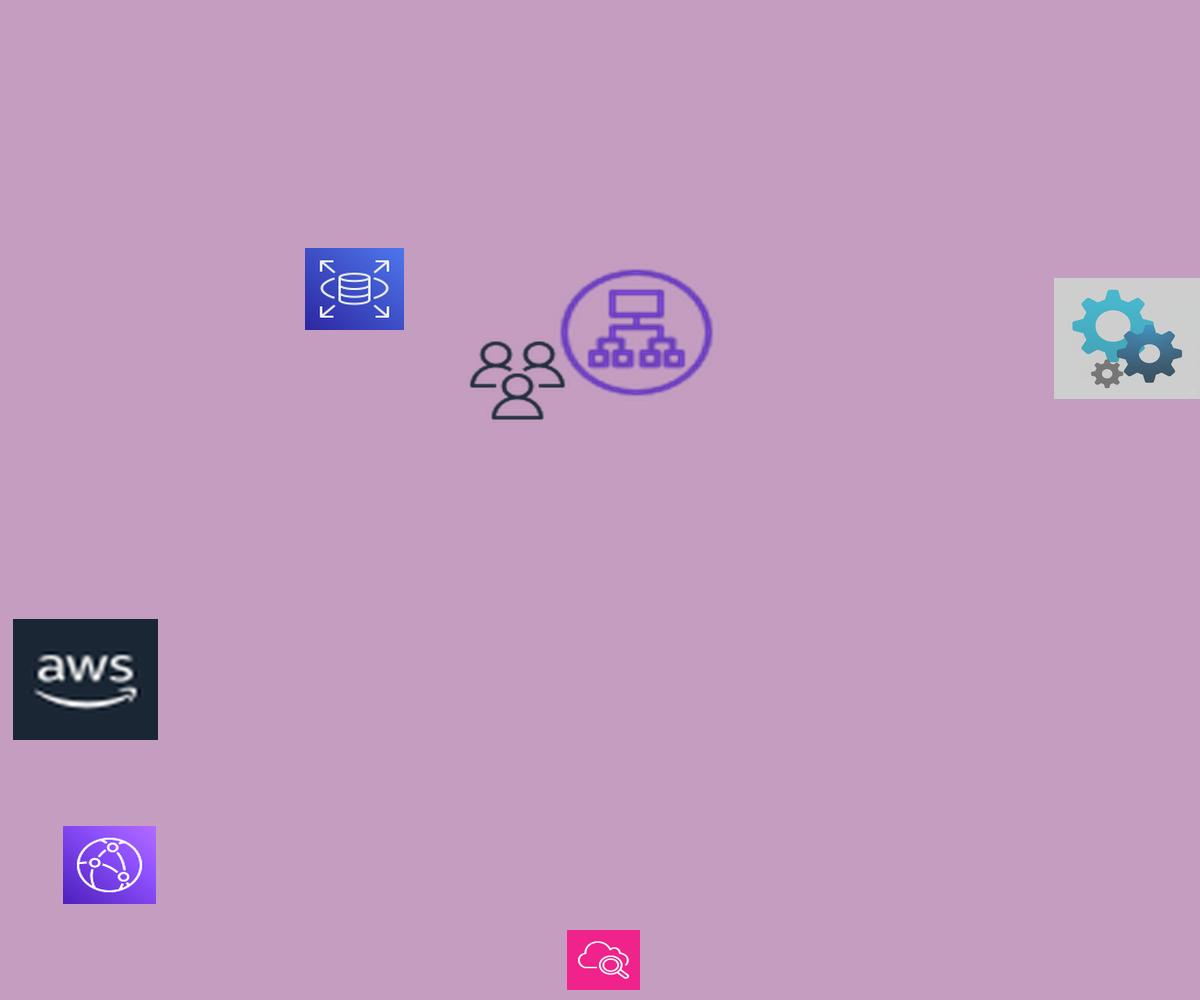AWS-Cloud-logo: (13, 619, 158, 740)
AWS-CloudFront: (63, 826, 156, 904)
AWS-CloudWatch: (567, 930, 640, 990)
AWS-RDS: (305, 248, 404, 330)
AWS-Res_Elastic-Load-Balancing_Application-Load-Balancer: (554, 264, 719, 401)
AWS-Res_Users: (466, 338, 569, 423)
Azure_api: (1054, 278, 1200, 399)
